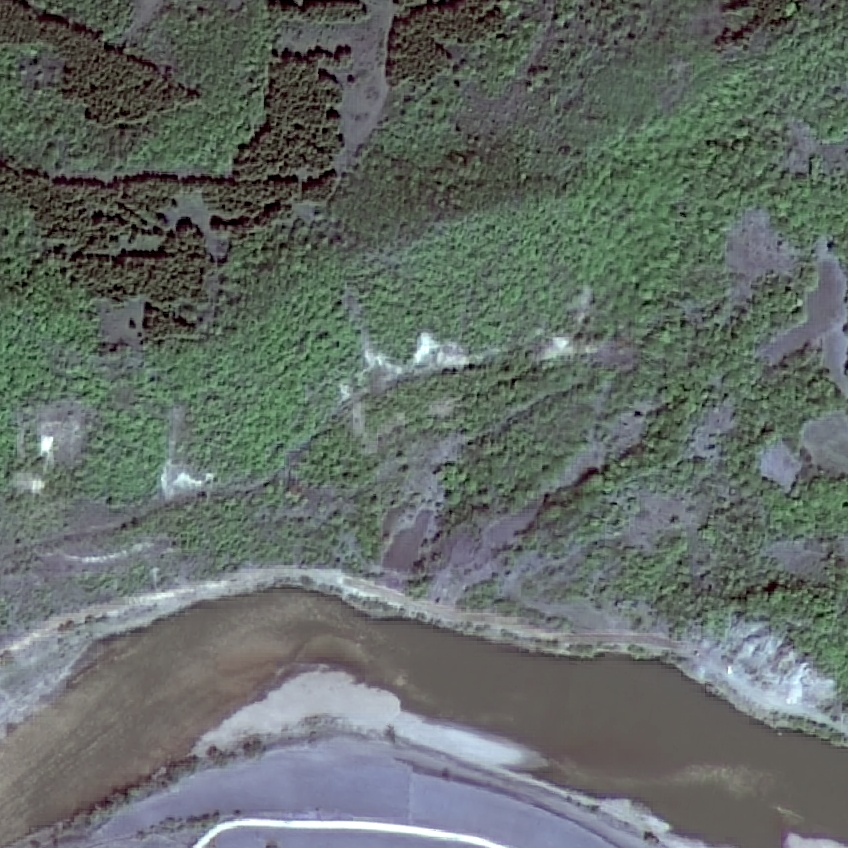slope: (711, 618, 833, 710), (339, 328, 475, 400)
